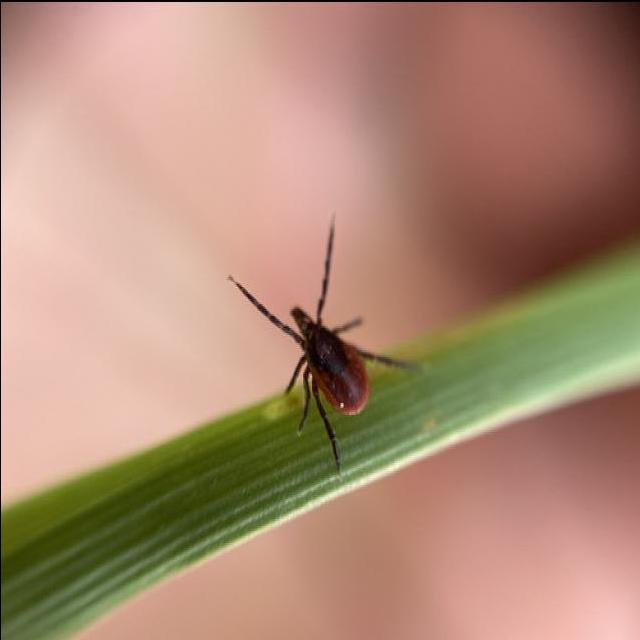Ixodes Ricinus-F: (225, 213, 422, 471)
